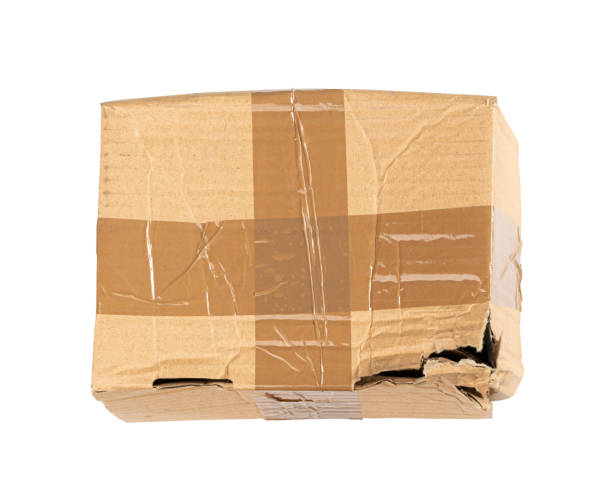damaged package: (369, 318, 494, 375), (423, 387, 490, 405)
